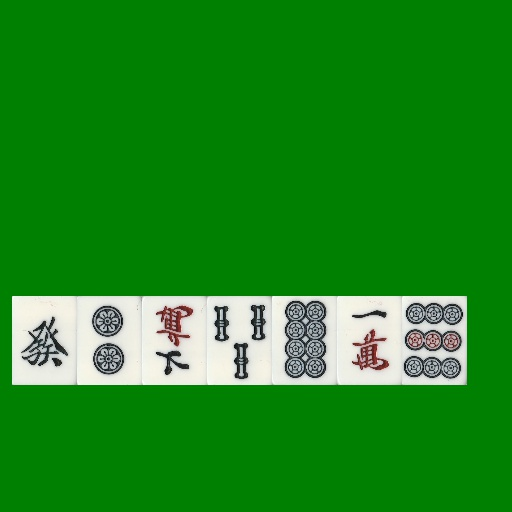1m: (337, 296, 402, 385)
2p: (77, 296, 142, 385)
3s: (207, 296, 272, 385)
7m: (142, 296, 207, 385)
8p: (272, 296, 337, 385)
9p: (402, 296, 467, 385)
hatsu: (12, 296, 77, 385)
